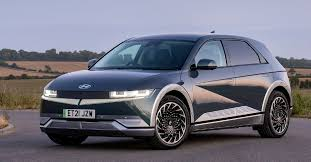Honda Ioniq: (34, 21, 297, 162)
